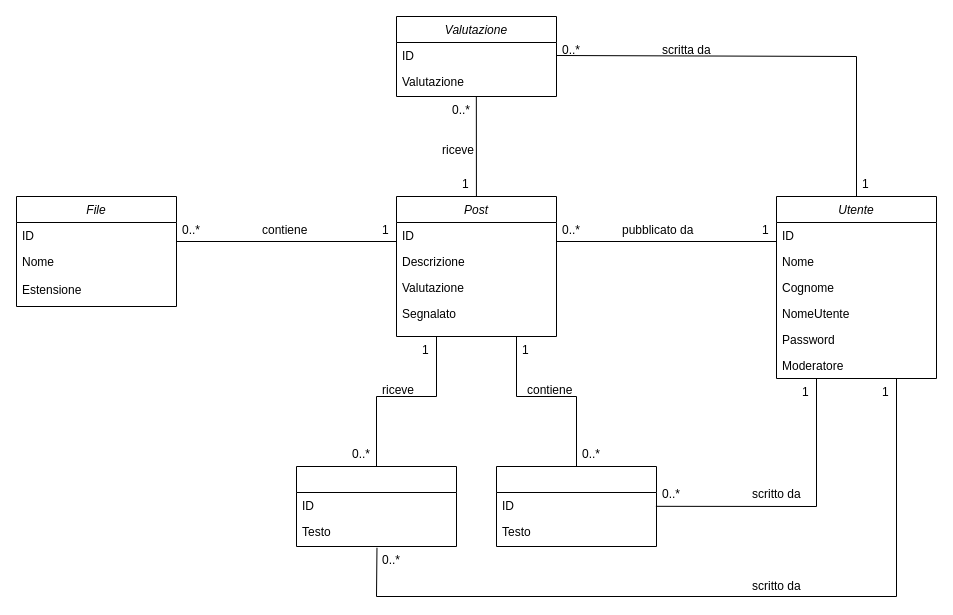
Image size: 953x615. Some labels were removed from this diagram. Here are the shapes that lost their labels. From the top down, the box of each, then its label:
(296, 466, 456, 546): Segnalazione
(496, 466, 656, 546): Commento
